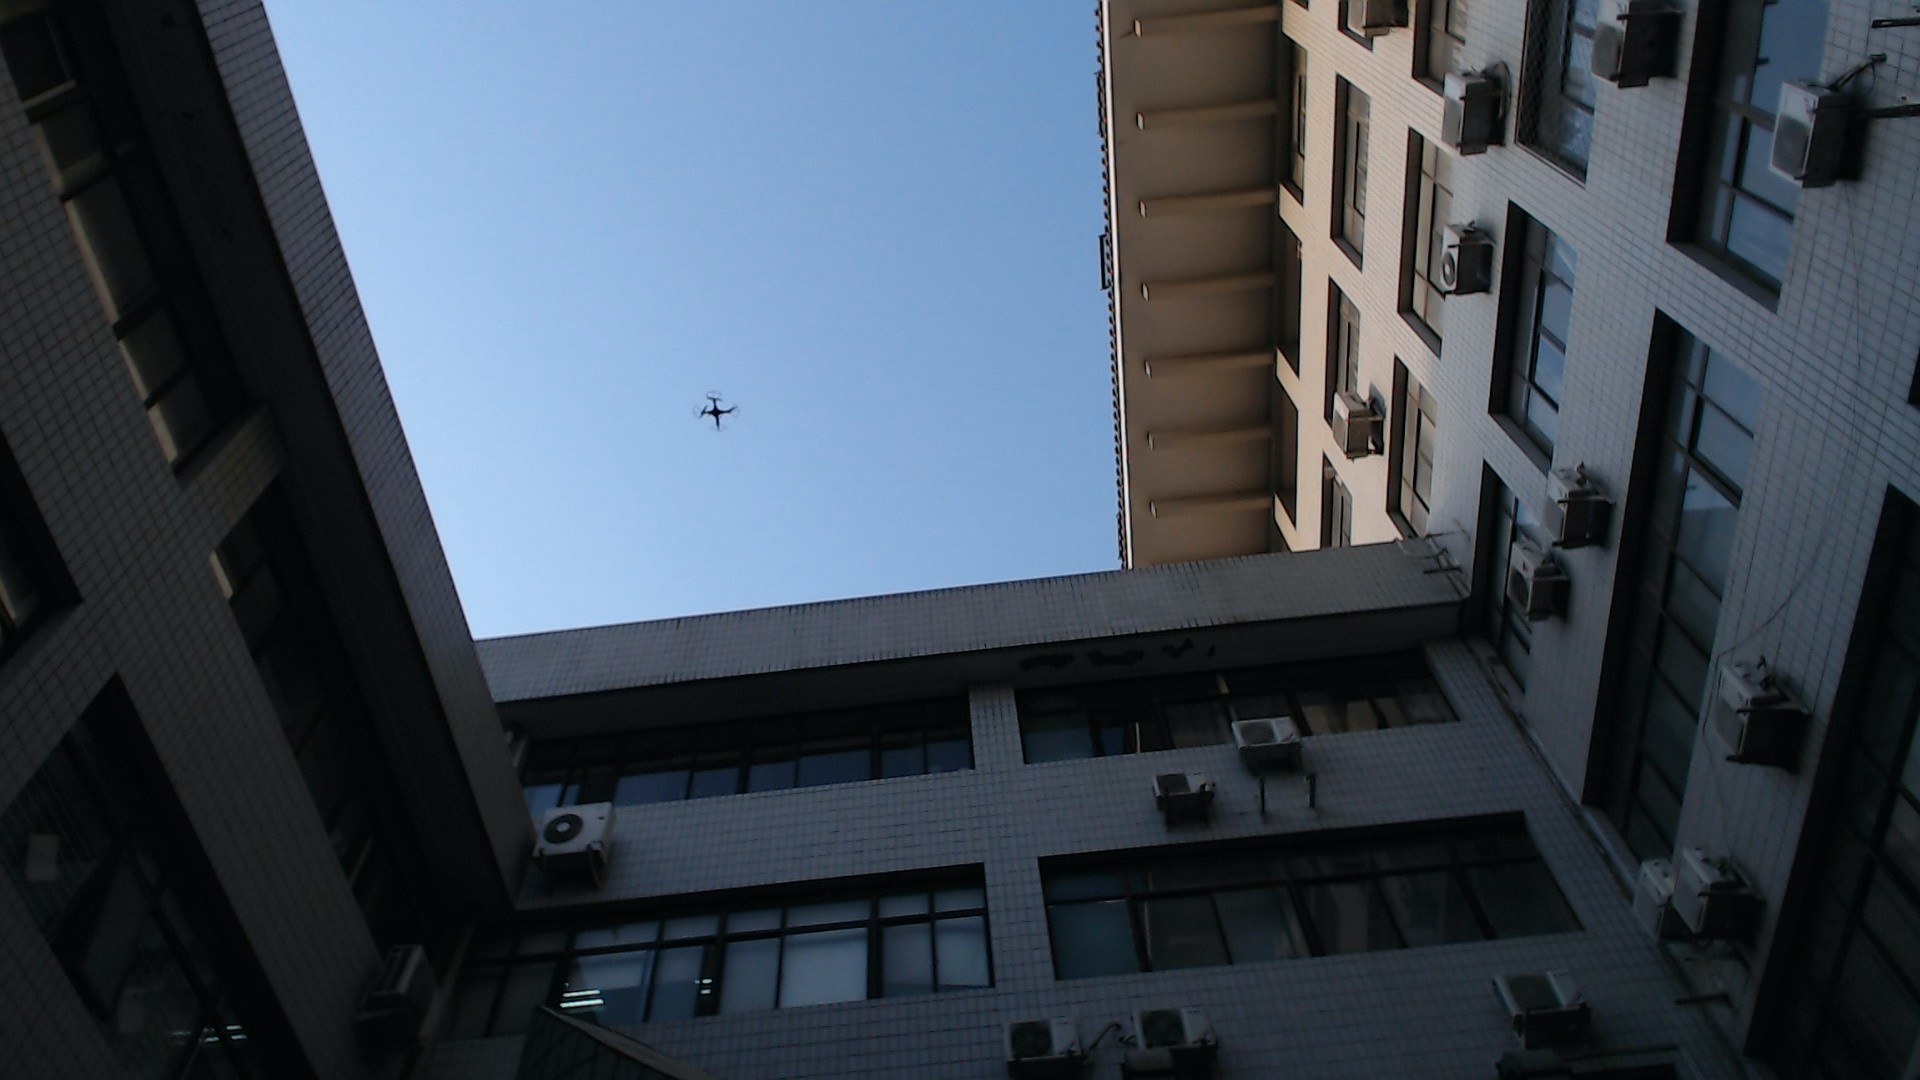drone: (683, 384, 749, 439)
